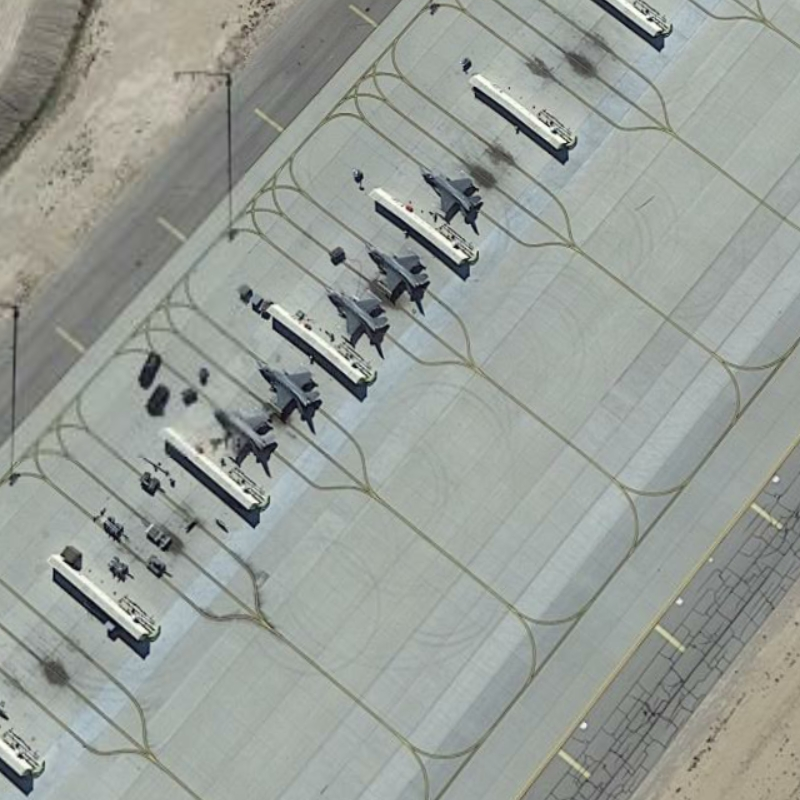A5: (409, 159, 493, 229), (361, 237, 443, 305), (249, 357, 327, 427), (201, 401, 280, 470), (320, 281, 398, 350)
